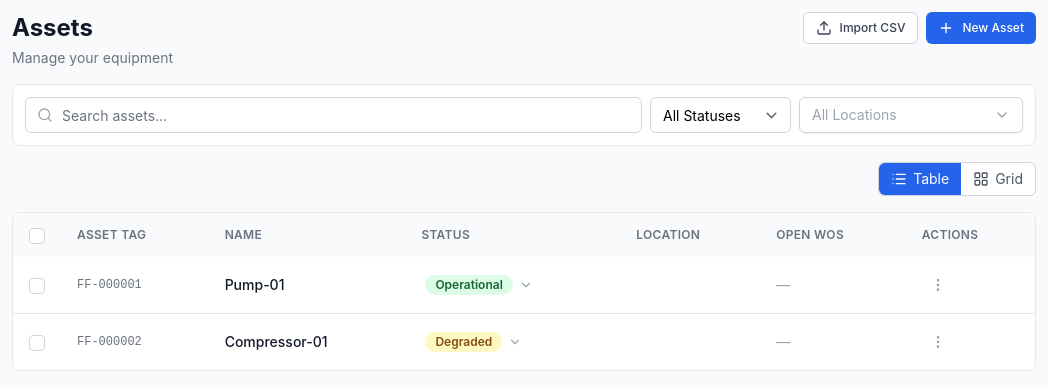
Test: AssetsListPage › toggles to grid view
Click the button with aria-label "Grid view". click: (998, 179)
box: x1=961 y1=163 x2=1035 y2=195
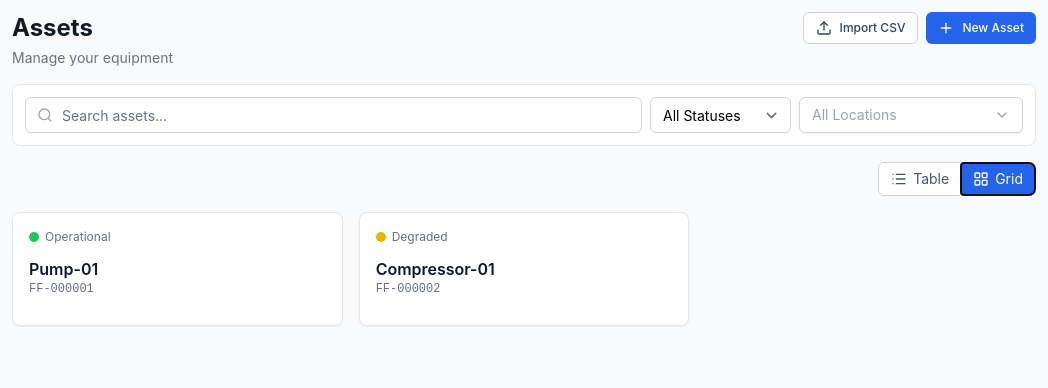
expect the column heading "Asset Tag" is gone: met
